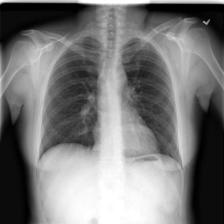normal: (34, 34, 186, 168)
